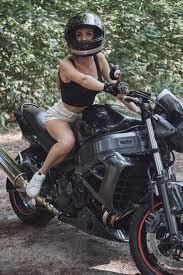helmet: (61, 7, 113, 57)
